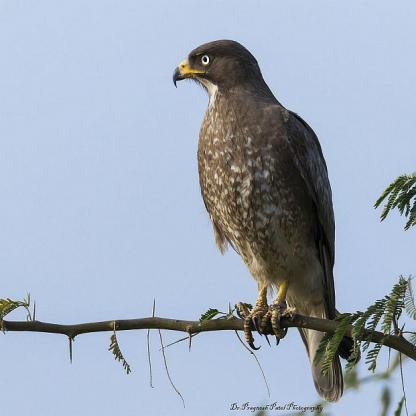Burung: (170, 40, 376, 395)
